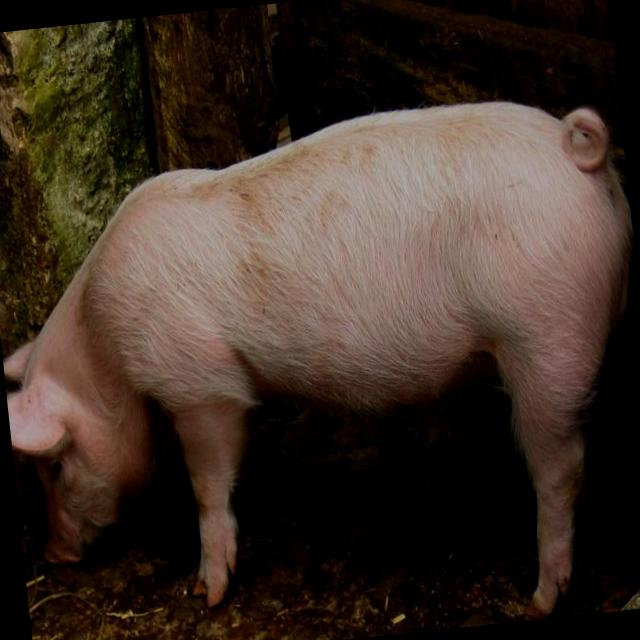pig: (3, 101, 629, 614)
